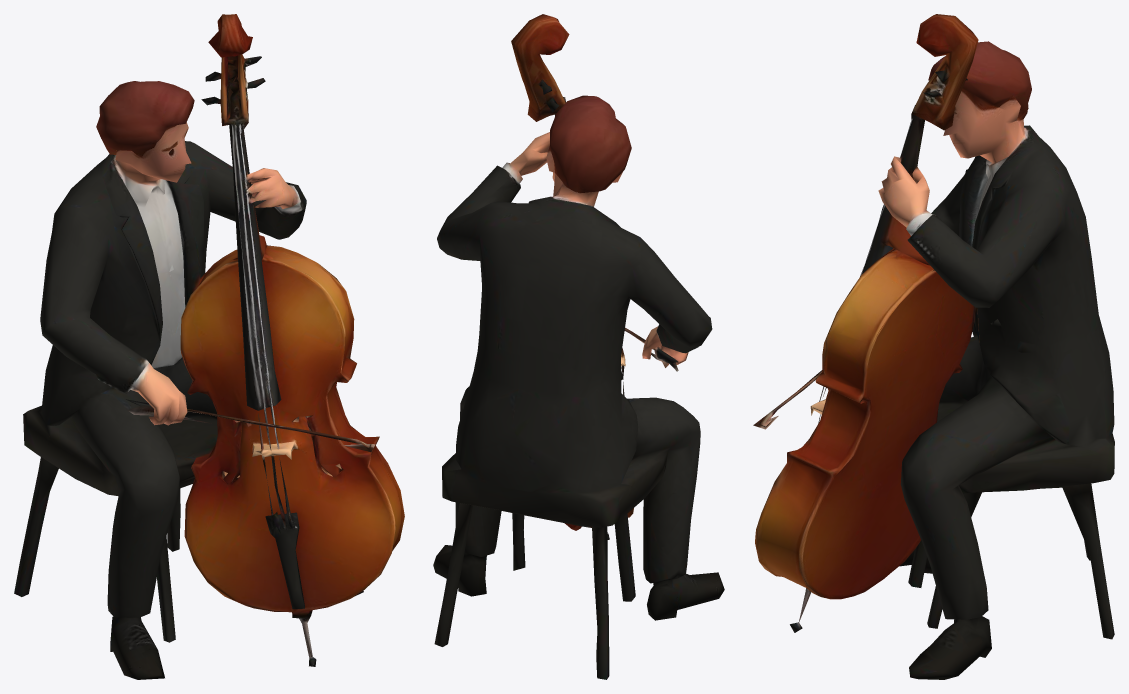
File: bassist.glb
3 renders of one model, left to right at view 1: azimuth 30°, elevation 25°; view 2: azimuth 150°, elevation 25°; view 3: azimuth 270°, elevation 25°, orthographic. The views are drawn at different scales.
Visible parts, largest first — view 1: tripo_node_0792875d-d0fa-454f-9328-8b3a88a7a37a; view 2: tripo_node_0792875d-d0fa-454f-9328-8b3a88a7a37a; view 3: tripo_node_0792875d-d0fa-454f-9328-8b3a88a7a37a.
Boxes of the visible parts, x1,y1,x2,y2 form: tripo_node_0792875d-d0fa-454f-9328-8b3a88a7a37a: (14,14,404,679); tripo_node_0792875d-d0fa-454f-9328-8b3a88a7a37a: (433,14,724,679); tripo_node_0792875d-d0fa-454f-9328-8b3a88a7a37a: (753,14,1114,679).
Size of the model in its own units: 0.9884 by 1.9 by 1.02.
1 material, 1 textured.
